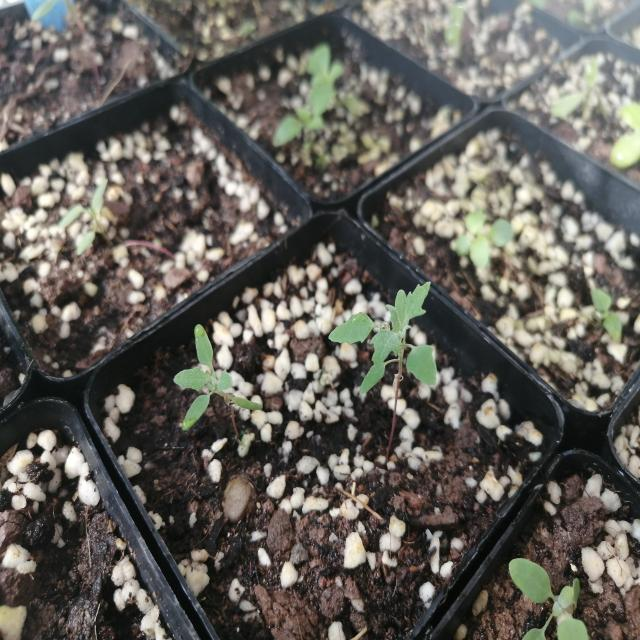goosefoots: (328, 277, 457, 418), (159, 320, 261, 450)
